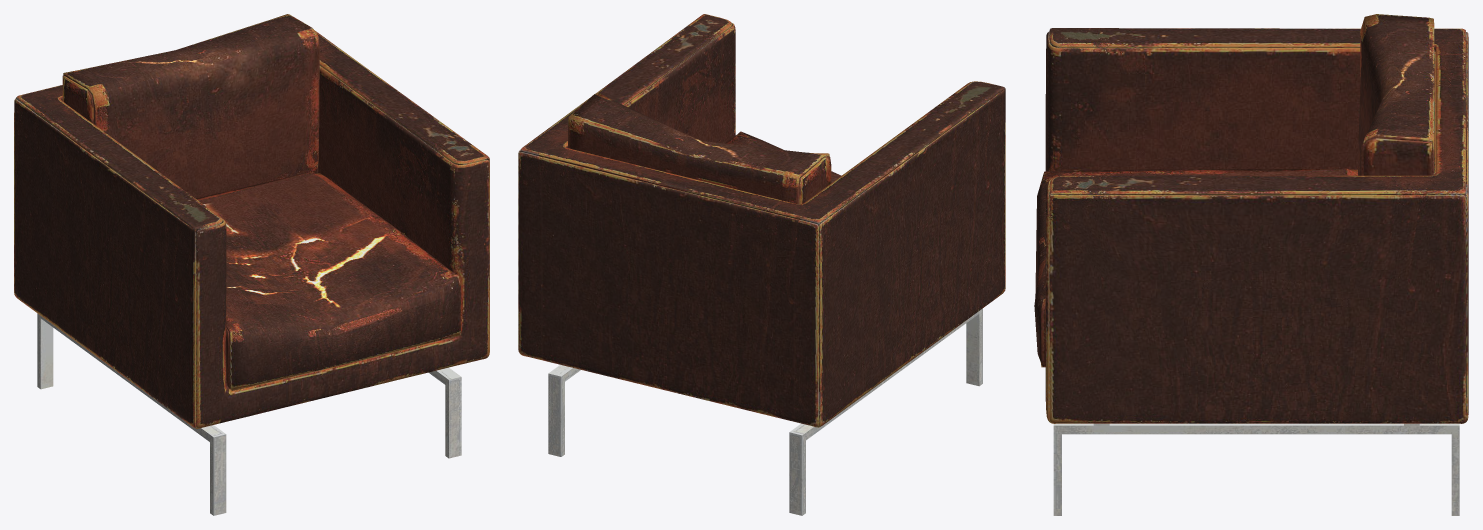
The model's file is trash_gagu001.fbx.
The picture shows the model from 3 angles, left to right: view 1: azimuth 30°, elevation 25°; view 2: azimuth 150°, elevation 25°; view 3: azimuth 270°, elevation 25°; orthographic projection. The views are drawn at different scales.
Visible parts, largest first — view 1: trash_gagu001; view 2: trash_gagu001; view 3: trash_gagu001.
Boxes of the visible parts, left/top/right/bottom form: trash_gagu001: left=14, top=14, right=489, bottom=515; trash_gagu001: left=518, top=14, right=1005, bottom=515; trash_gagu001: left=1034, top=14, right=1468, bottom=515.
Size of the model in its own units: 67.28 by 74.19 by 70.96.
